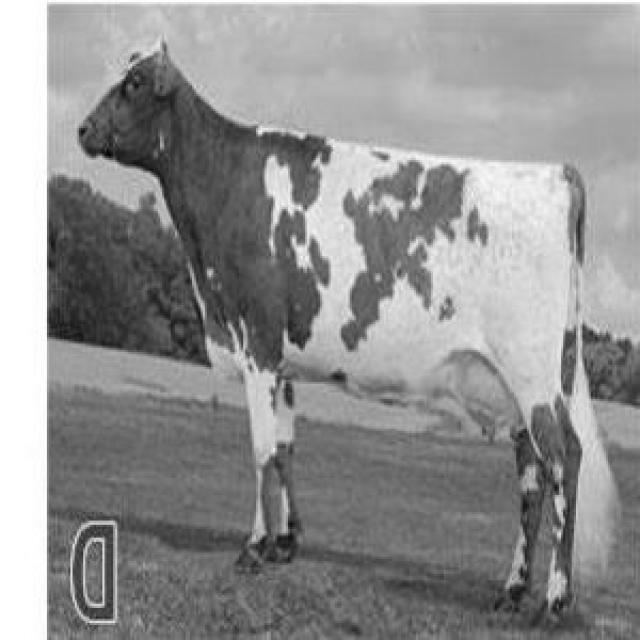cow: (75, 38, 612, 624)
